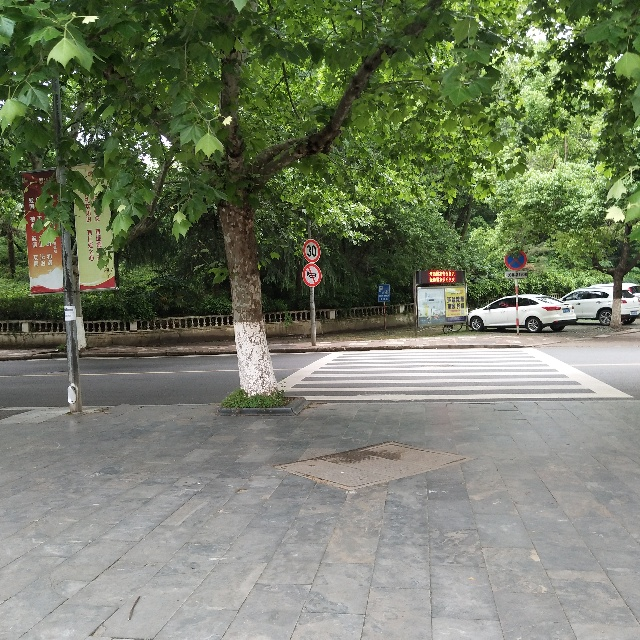nohonk: (302, 263, 322, 287)
stop: (505, 249, 527, 270)
